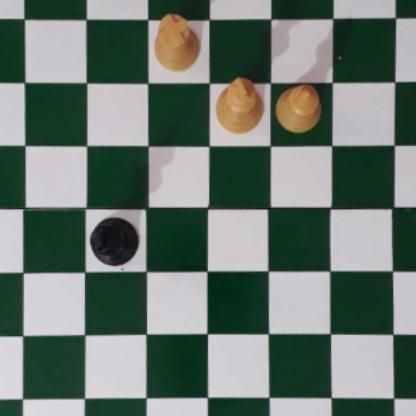black-king: (88, 217, 141, 268)
white-bishop: (275, 82, 321, 133)
white-king: (213, 75, 264, 134)
white-rook: (154, 15, 202, 71)
